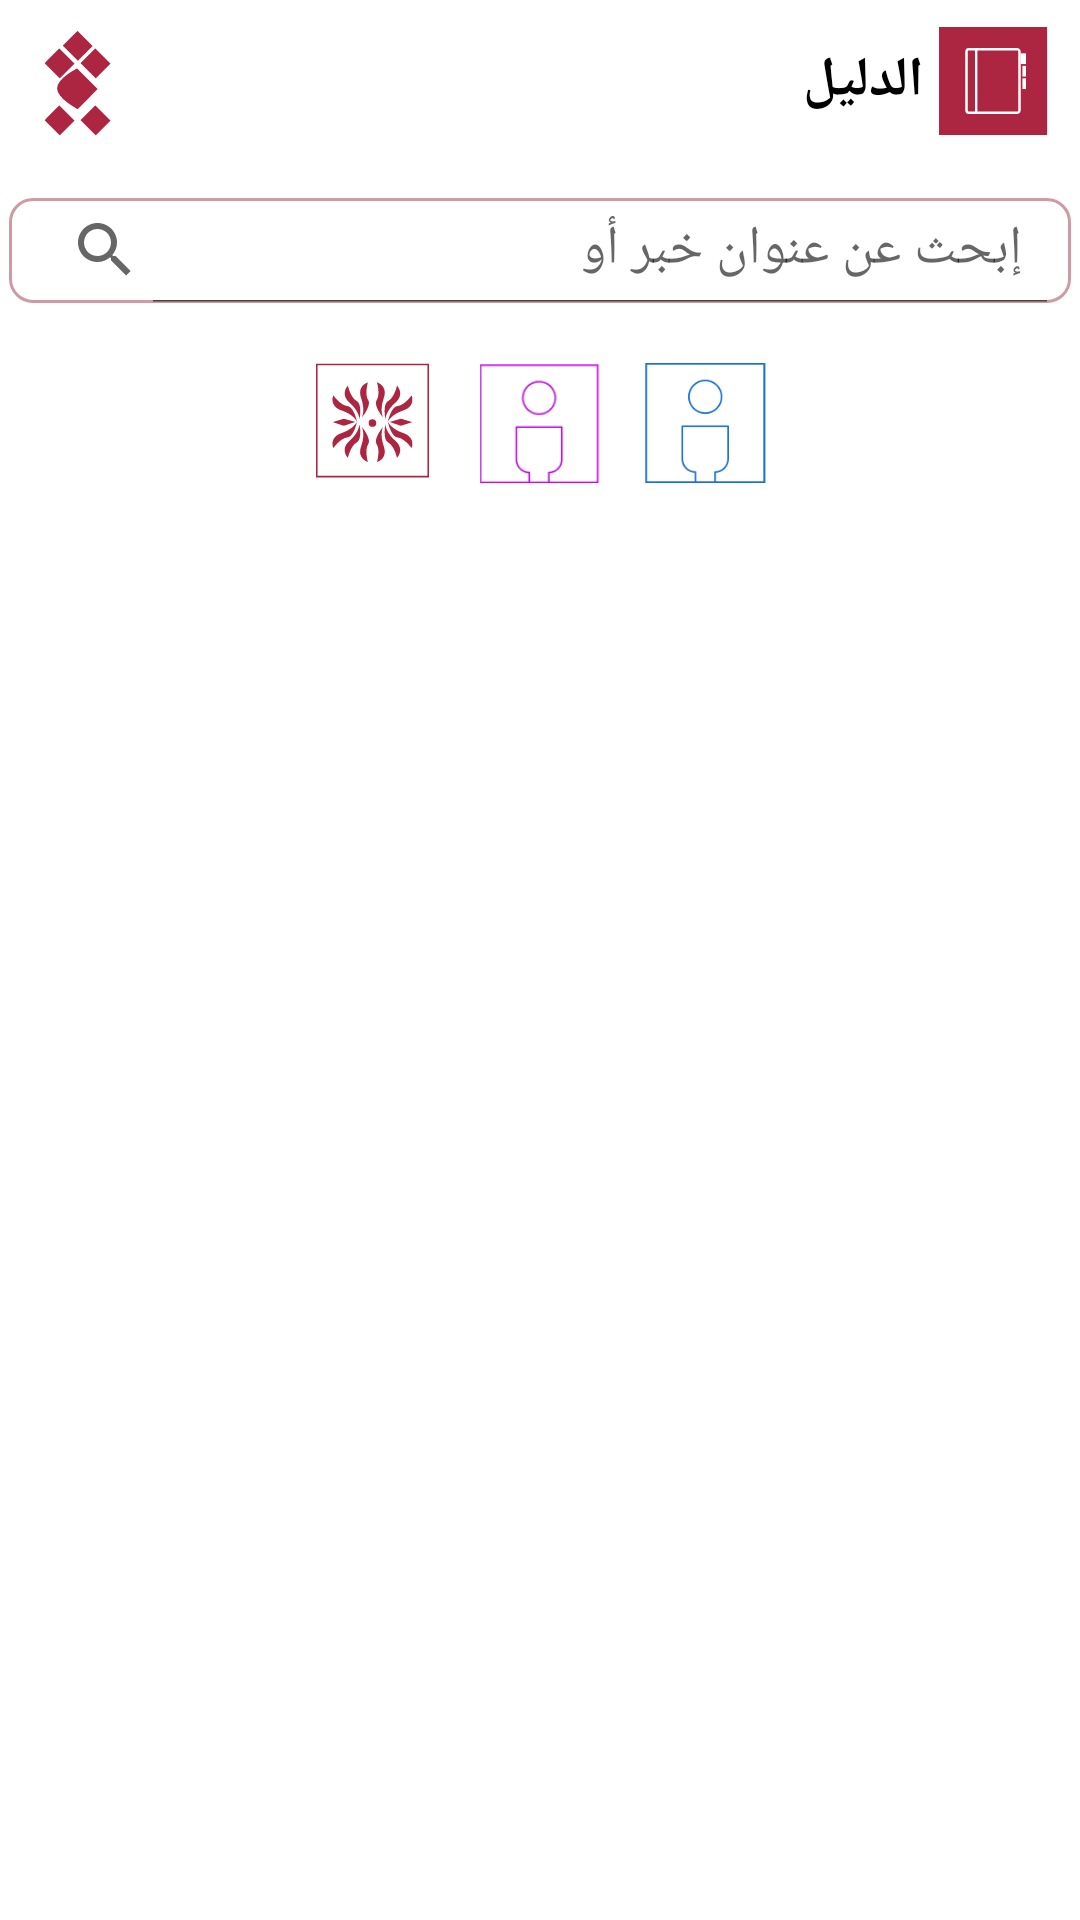

Point at icon controls on the screen. Image size 1080x1920, points as (x,y).
female: (540,423)
male: (705,423)
